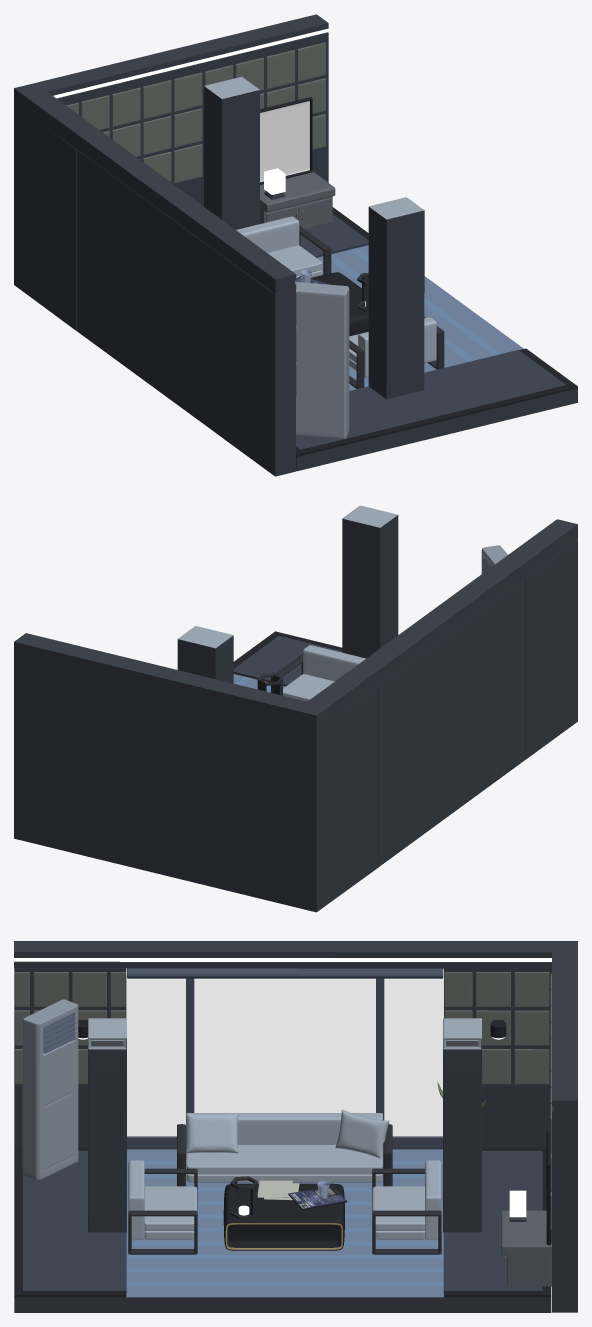
3 renders of one model, top to bottom at view 1: azimuth 30°, elevation 25°; view 2: azimuth 150°, elevation 25°; view 3: azimuth 270°, elevation 25°, orthographic. The views are drawn at different scales.
Visible parts, largest first — view 1: Wall, Window.001, Wall.004, Wall.001, Floor.001, Pillar.001, Floor, Air_Conditioner.001, Pillar.002, Mirror, Sofa.001, Sofa (+3 smaller); view 2: Wall, Window.001, Wall.004, Pillar.001, Pillar.002, Floor.001, Sofa; view 3: Window.001, Glass.002, Floor, Floor.001, Wall.004, Wall, Sofa.002, Air_Conditioner.001, Pillar.002, Pillar.001, Wall.002, Table (+14 smaller).
Boxes of the visible parts, left/top/right/bottom form: Wall: left=14, top=38, right=328, bottom=476; Window.001: left=76, top=149, right=223, bottom=437; Wall.004: left=14, top=14, right=328, bottom=294; Wall.001: left=66, top=42, right=325, bottom=183; Floor.001: left=296, top=207, right=577, bottom=456; Pillar.001: left=368, top=197, right=424, bottom=399; Floor: left=296, top=245, right=577, bottom=471; Air_Conditioner.001: left=295, top=282, right=349, bottom=438; Pillar.002: left=204, top=76, right=259, bottom=229; Mirror: left=260, top=97, right=312, bottom=184; Sofa.001: left=236, top=216, right=331, bottom=277; Sofa: left=349, top=317, right=444, bottom=388; Wall: left=14, top=540, right=577, bottom=912; Window.001: left=378, top=578, right=525, bottom=866; Wall.004: left=14, top=519, right=577, bottom=730; Pillar.001: left=342, top=505, right=398, bottom=658; Pillar.002: left=177, top=626, right=233, bottom=683; Floor.001: left=233, top=631, right=342, bottom=686; Sofa: left=271, top=645, right=365, bottom=701; Window.001: left=127, top=969, right=443, bottom=1149; Glass.002: left=126, top=976, right=443, bottom=1136; Floor: left=14, top=1149, right=551, bottom=1312; Floor.001: left=14, top=1147, right=551, bottom=1297; Wall.004: left=14, top=941, right=577, bottom=1116; Wall: left=14, top=968, right=577, bottom=1312; Sofa.002: left=177, top=1113, right=392, bottom=1186; Air_Conditioner.001: left=22, top=999, right=78, bottom=1179; Pillar.002: left=443, top=1018, right=481, bottom=1232; Pillar.001: left=88, top=1018, right=126, bottom=1232; Wall.002: left=444, top=972, right=549, bottom=1084; Table: left=223, top=1183, right=344, bottom=1250.
Bounding box in the file's own units: 21.79 × 13.57 × 32.61.
23 materials, 2 textured.
